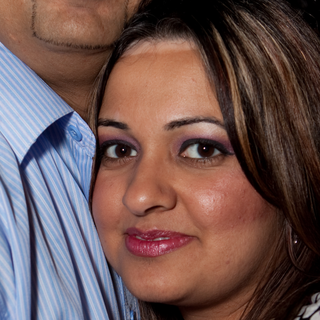eye: (174, 134, 235, 168), (94, 138, 142, 167)
